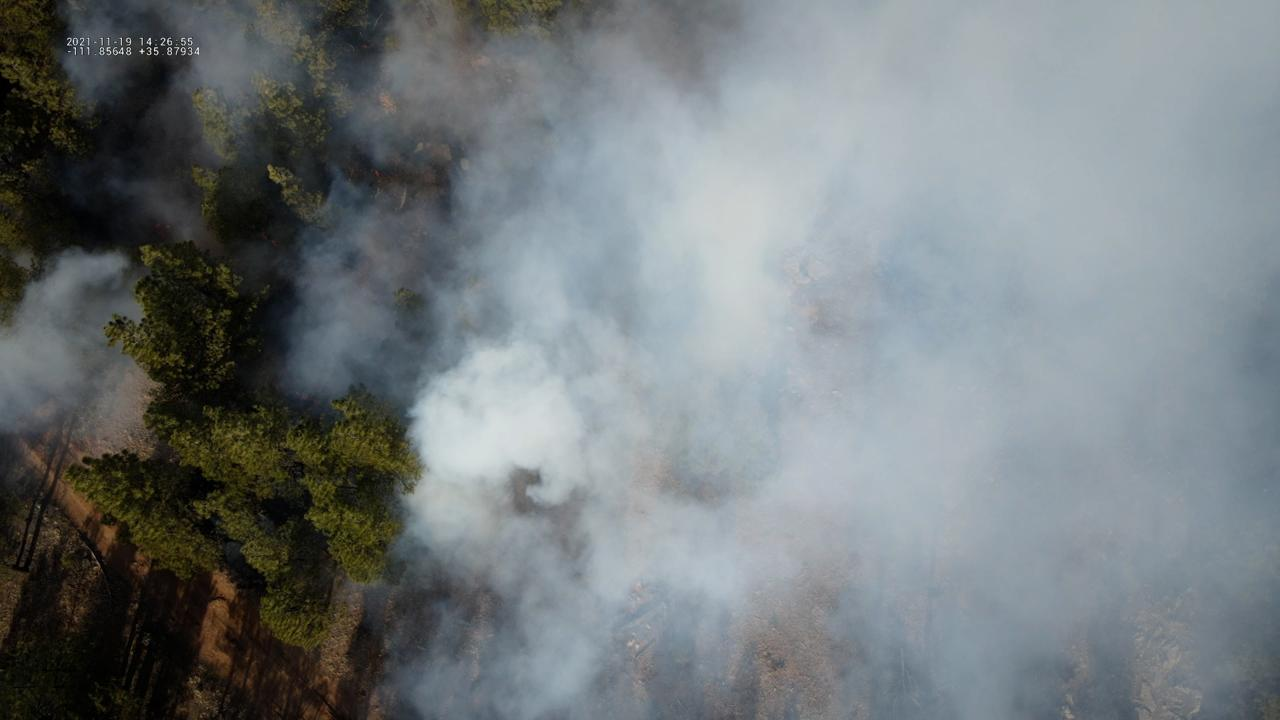fire: (151, 223, 172, 241), (271, 239, 281, 249), (372, 168, 381, 178)
smoke: (0, 0, 1280, 720)
